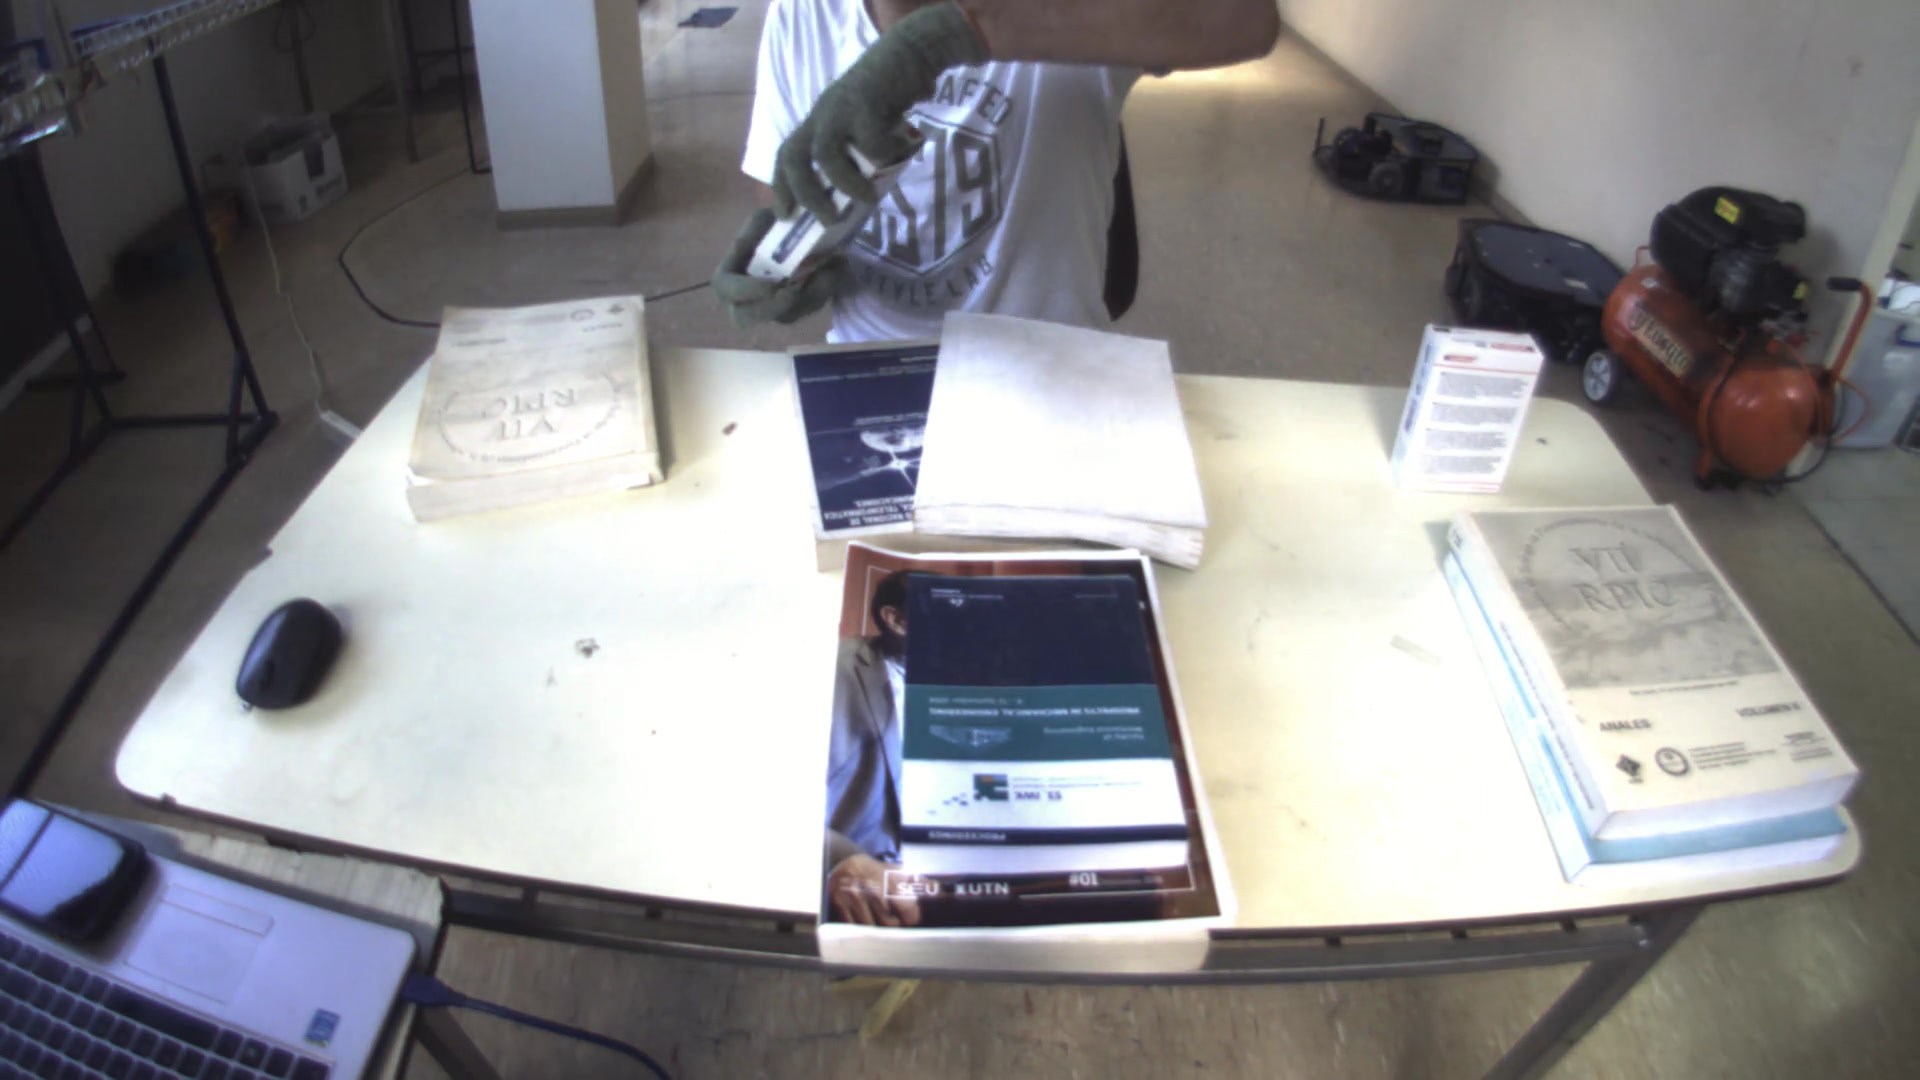hand: (764, 22, 961, 245), (708, 206, 847, 327)
